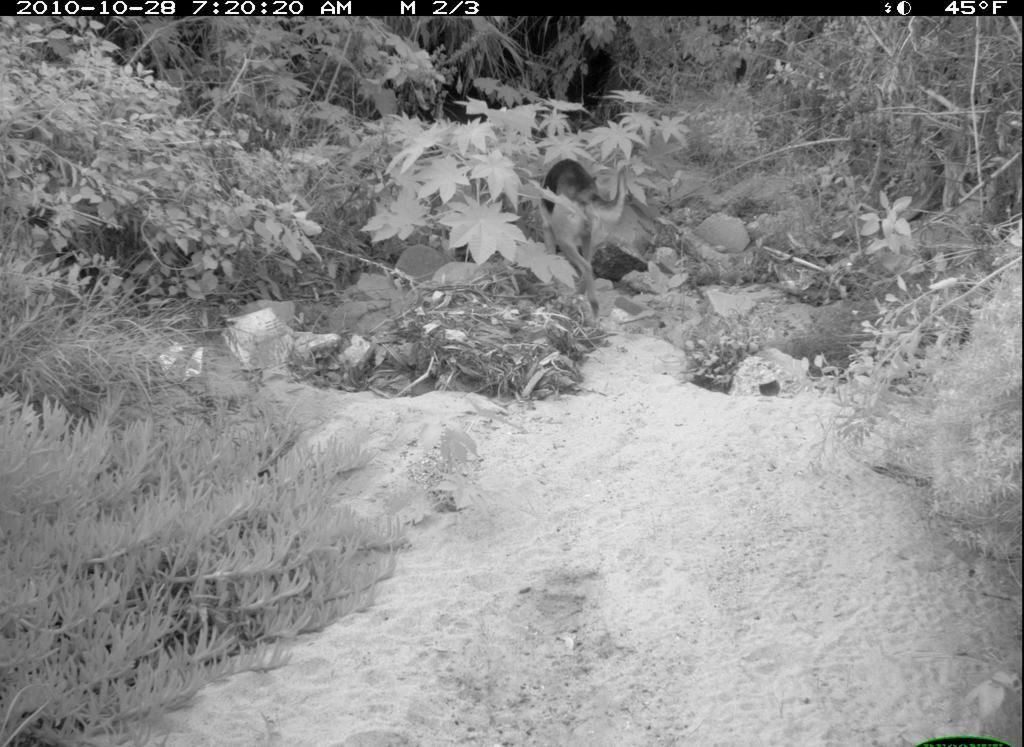dog: (532, 145, 638, 329)
